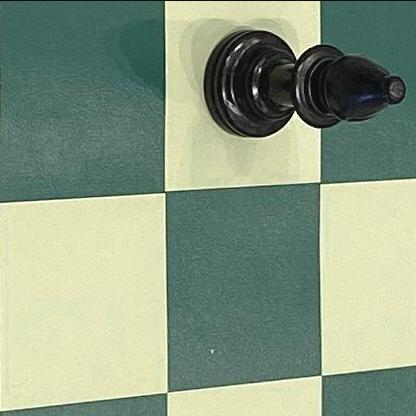black-bishop: (200, 24, 410, 141)
